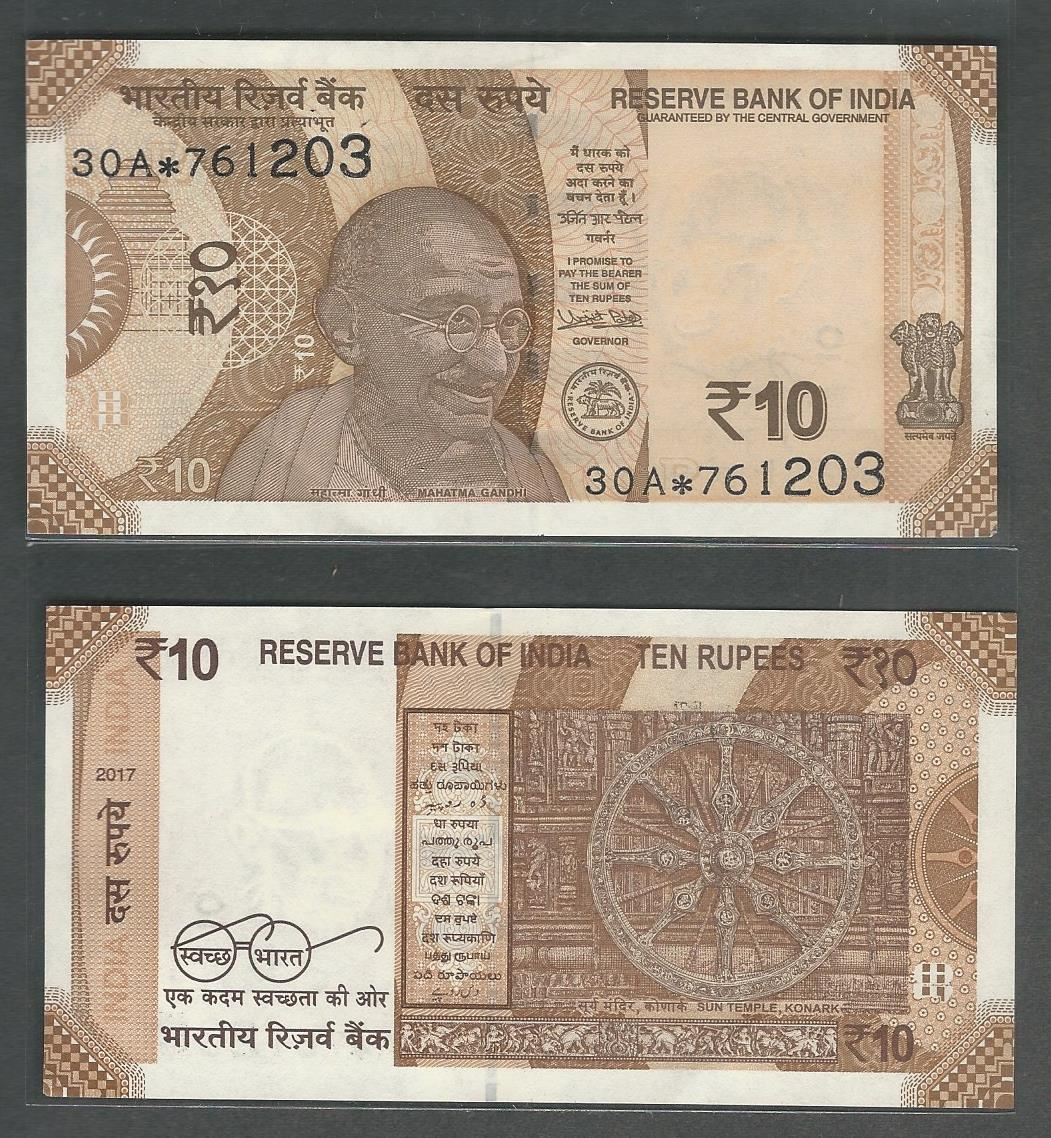ten_rupees_note: (44, 601, 1016, 1110), (22, 38, 993, 536)
